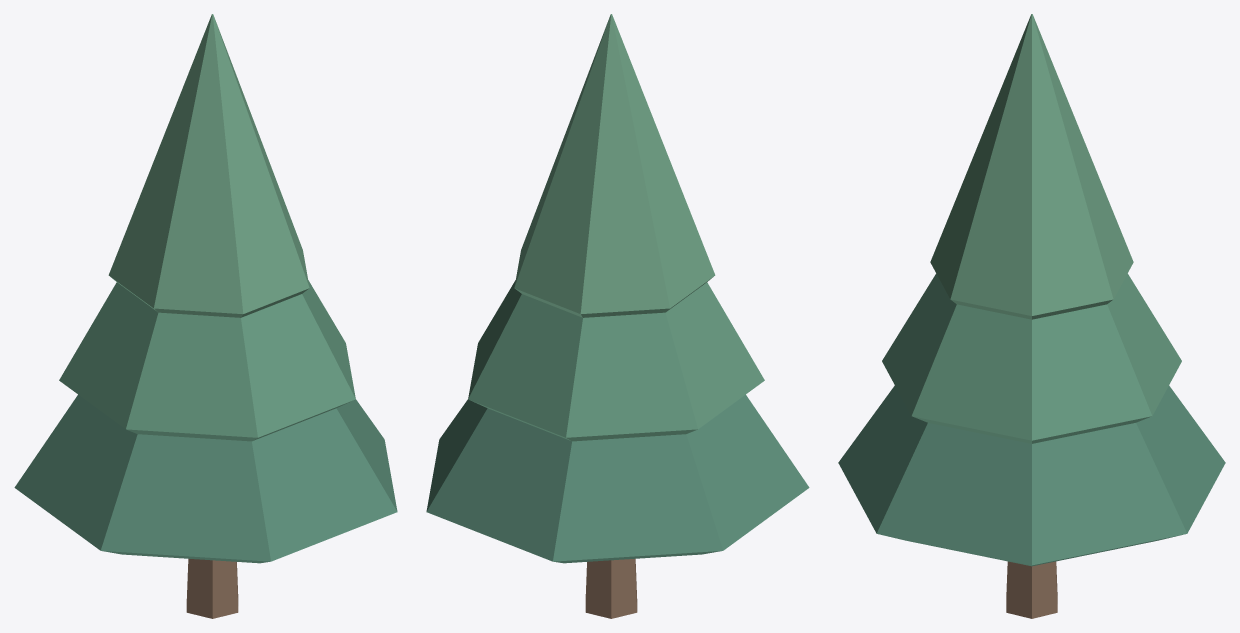
Rendered from larch-lowpoly.glb.
3 views of the same model, side by side, from view 1: azimuth 30°, elevation 25°; view 2: azimuth 150°, elevation 25°; view 3: azimuth 270°, elevation 25° (orthographic).
Visible parts, largest first — view 1: larch-lowpoly; view 2: larch-lowpoly; view 3: larch-lowpoly.
Part boxes in pixels (x1,y1,x2,y2): larch-lowpoly: (14, 14, 397, 618); larch-lowpoly: (426, 14, 809, 618); larch-lowpoly: (838, 14, 1225, 618).
Bounding box in the file's own units: 1.52 × 2.63 × 1.56.
